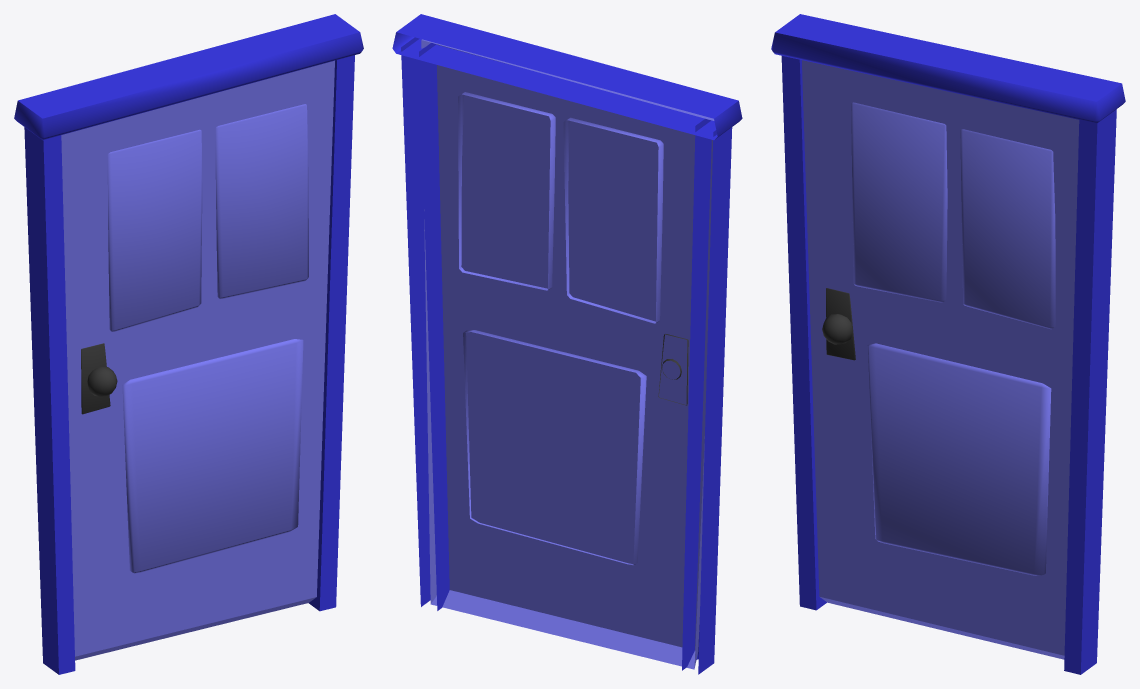
Rendered from Door.FBX.
3 views of the same model, side by side, from view 1: azimuth 30°, elevation 25°; view 2: azimuth 150°, elevation 25°; view 3: azimuth 330°, elevation 25° (orthographic).
Parts seen in each view (by area): view 1: Door; view 2: Door; view 3: Door.
Part boxes in pixels (bbox=[...]): Door: bbox=[14, 14, 363, 674]; Door: bbox=[392, 14, 742, 674]; Door: bbox=[771, 14, 1125, 674].
Size of the model in its own units: 5.54 by 9.34 by 0.915.
